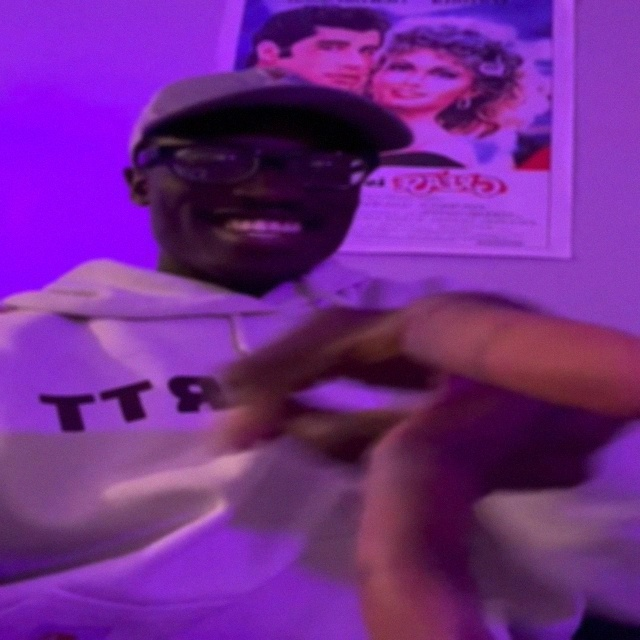Scissors: (221, 290, 640, 640)
